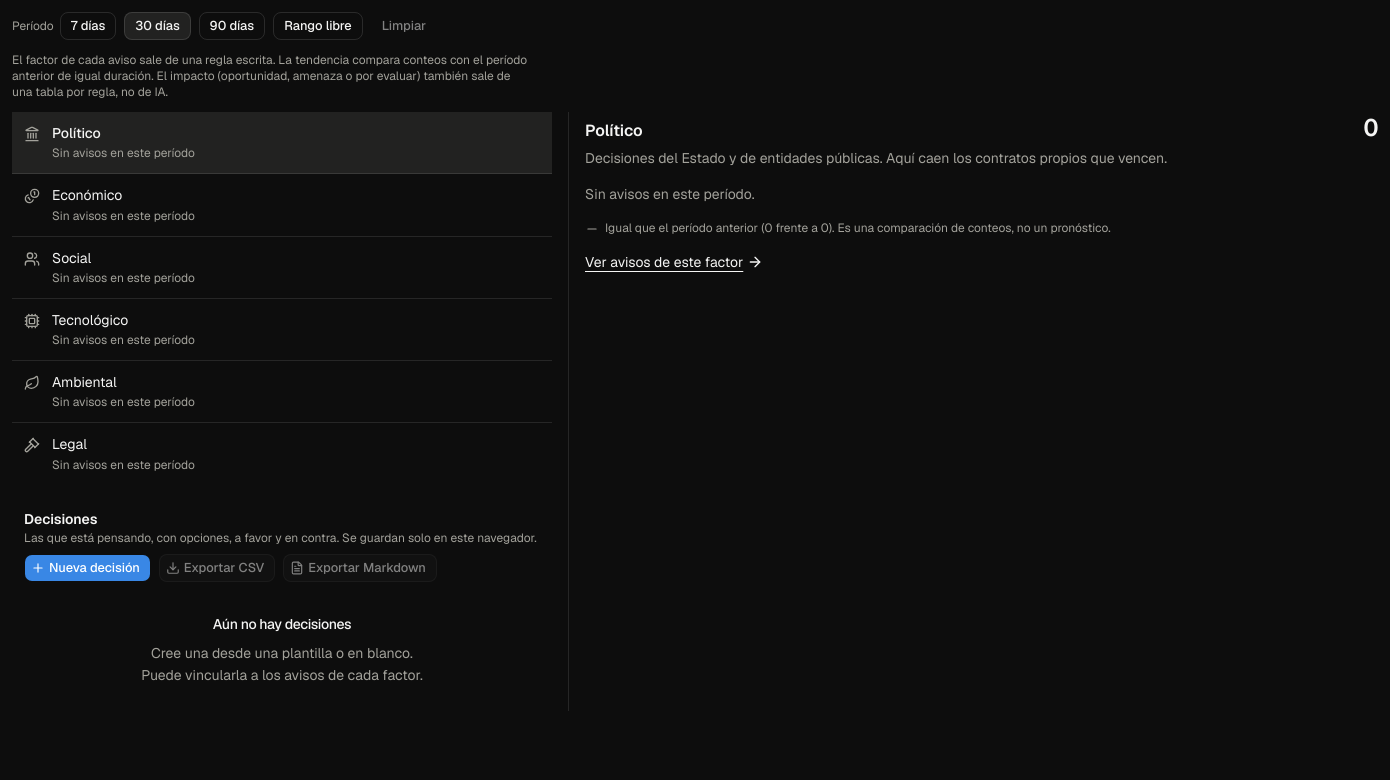
it: PestelView › switches the pane to the factor that was picked in the list
Step 1. Click the button "Legal Sin avisos en este período" → x=69, y=444, box [12, 423, 552, 485]
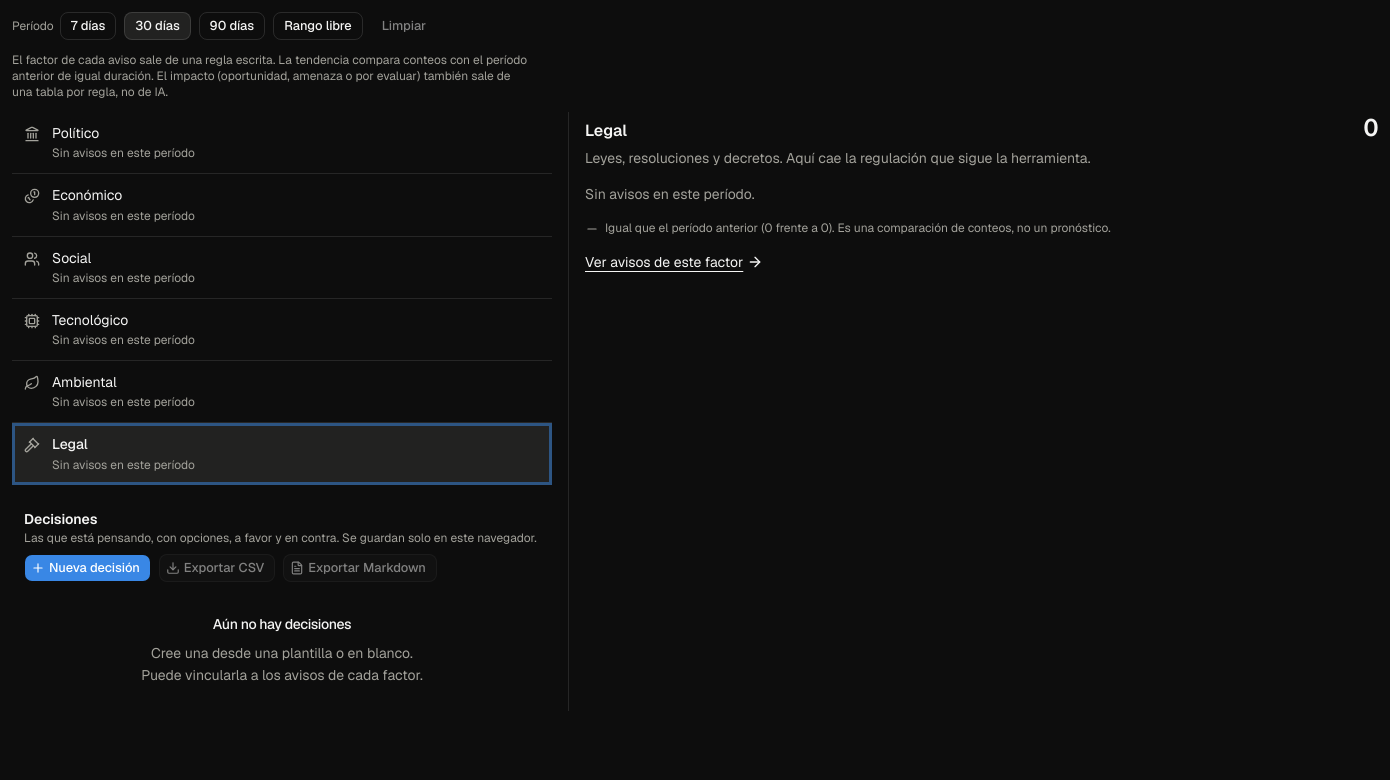
Expected: the element named "Factor Legal" is shown, [585, 112, 1378, 272]
